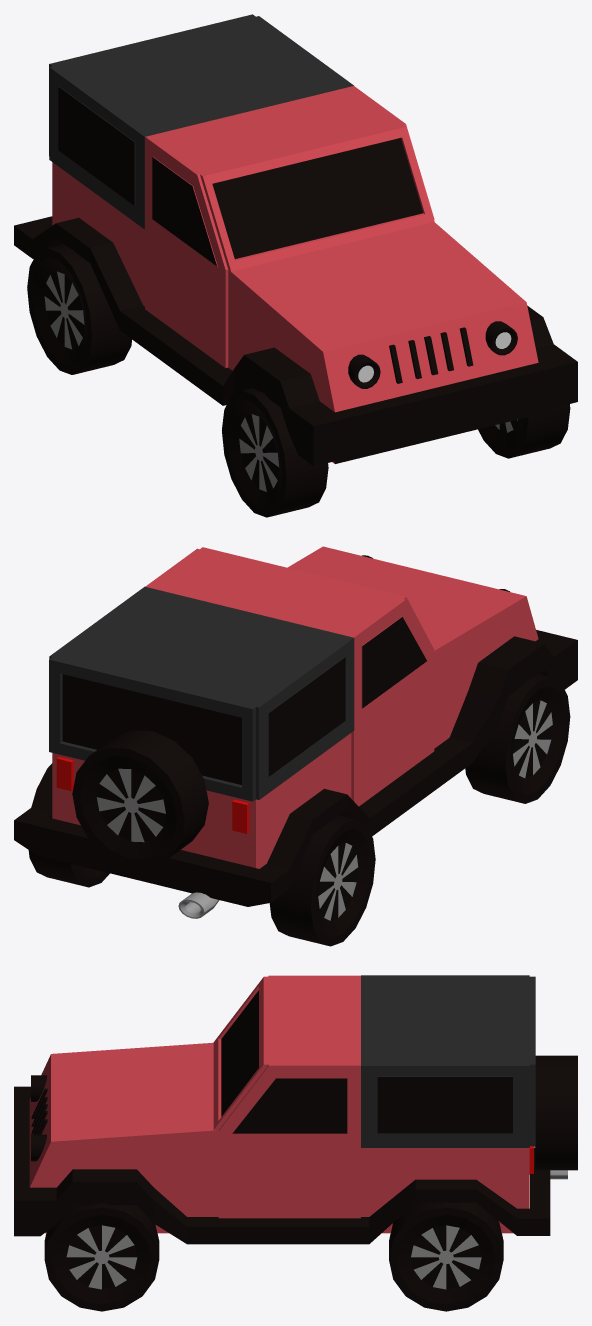
The model's file is Jeep.fbx.
3 views of the same model, one above another, from view 1: azimuth 30°, elevation 25°; view 2: azimuth 150°, elevation 25°; view 3: azimuth 270°, elevation 25° (orthographic). The views are drawn at different scales.
Parts seen in each view (by area): view 1: body.001, roda ft.001, roda bk.001, lampu.001; view 2: body.001, roda cd.001, roda bk.001, roda ft.001, knalpot.001; view 3: body.001, roda bk.001, roda ft.001, roda cd.001, lampu.001.
Boxes of the visible parts, box(x1,y1,x2,y2) form: body.001: box(14, 14, 577, 466); roda ft.001: box(222, 388, 570, 517); roda bk.001: box(27, 244, 132, 374); lampu.001: box(348, 321, 517, 388); body.001: box(14, 546, 577, 906); roda cd.001: box(72, 730, 208, 866); roda bk.001: box(28, 763, 375, 946); roda ft.001: box(465, 674, 570, 803); knalpot.001: box(178, 892, 219, 918); body.001: box(14, 975, 550, 1244); roda bk.001: box(389, 1202, 503, 1311); roda ft.001: box(44, 1203, 159, 1311); roda cd.001: box(534, 1055, 577, 1170); lampu.001: box(31, 1075, 46, 1161).
Bounding box in the file's own units: 279 × 244 × 543.
